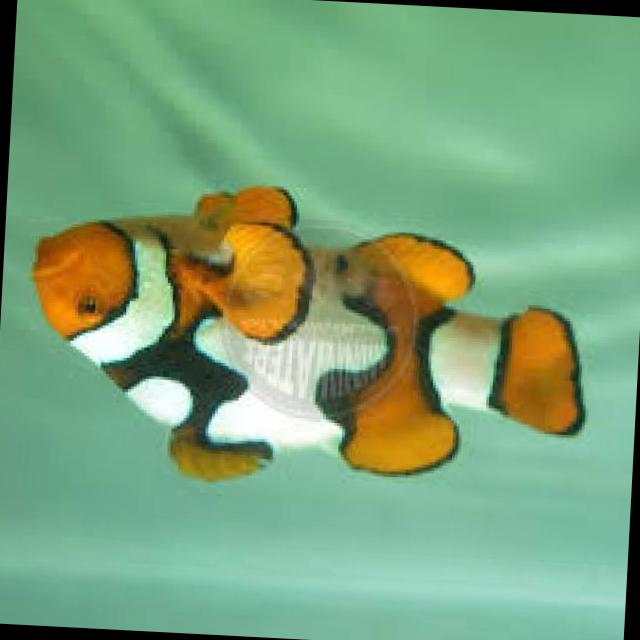ClownFish: (20, 173, 591, 502)
